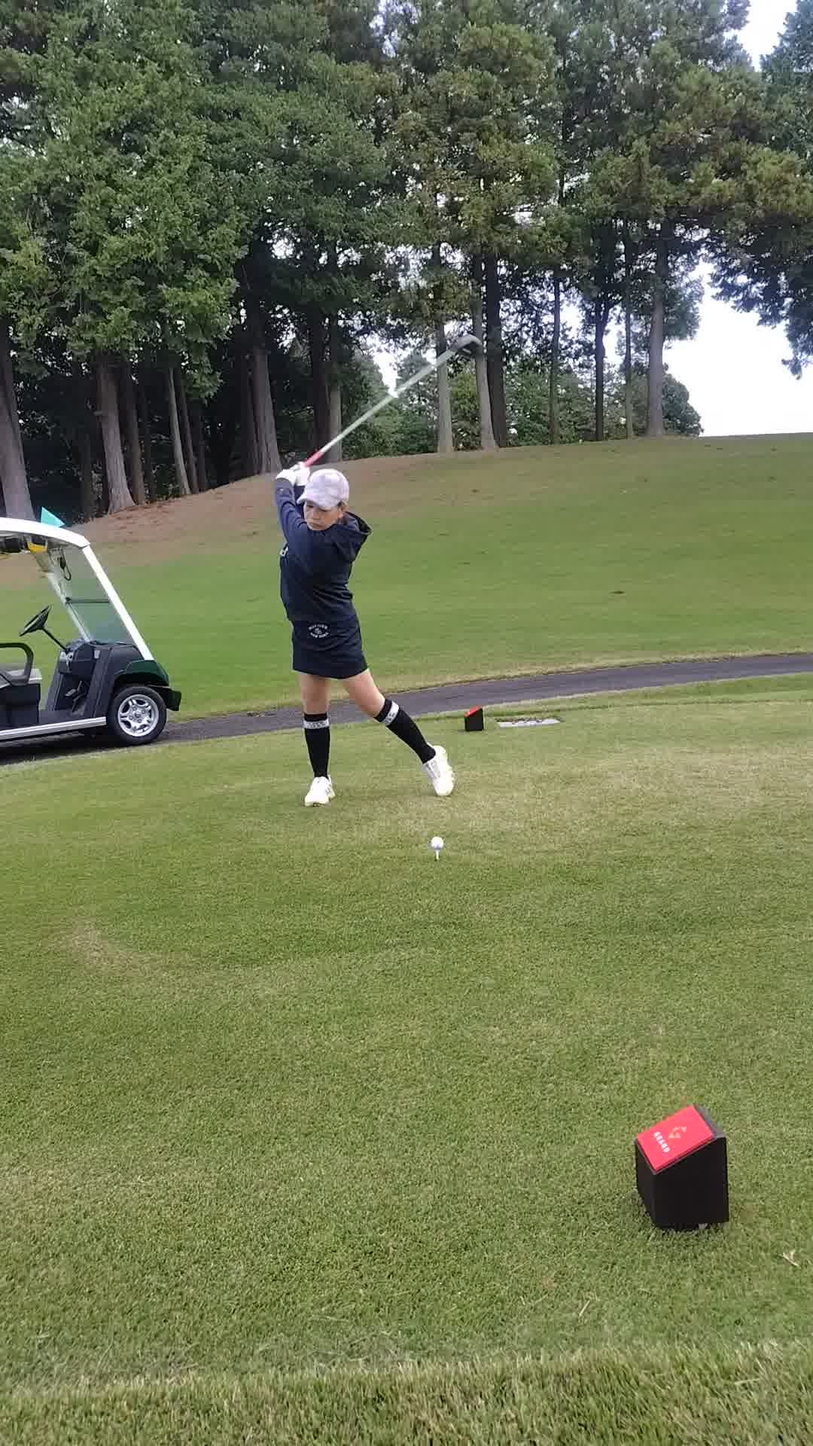clubhead: (357, 224, 567, 479)
